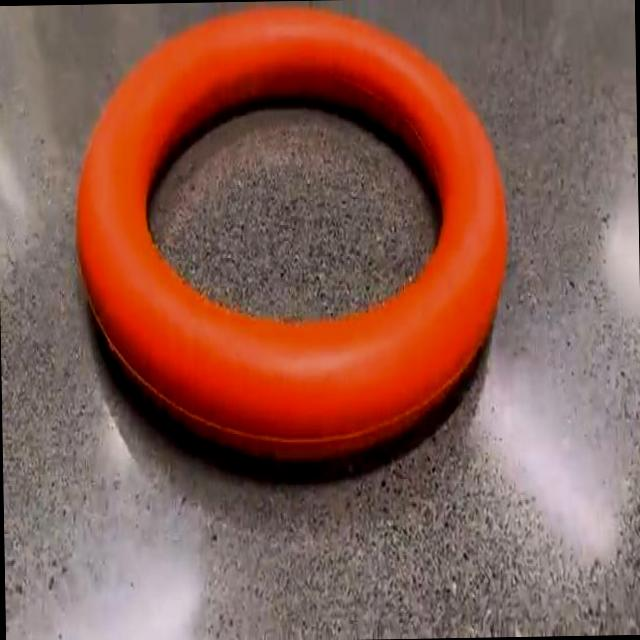note: (78, 7, 506, 459)
